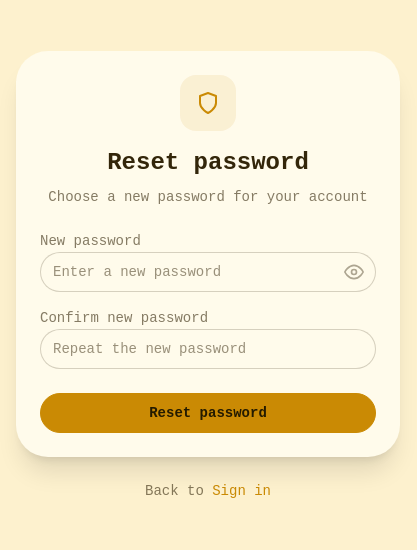
ResetPasswordPage › shows an error when fields are empty
The width and height of the screenshot is (417, 550).
What coordinates should you click on to do the following:
click the button "Reset password"
I would click on:
 (208, 413)
Its box is top-left (40, 393), bottom-right (376, 433).
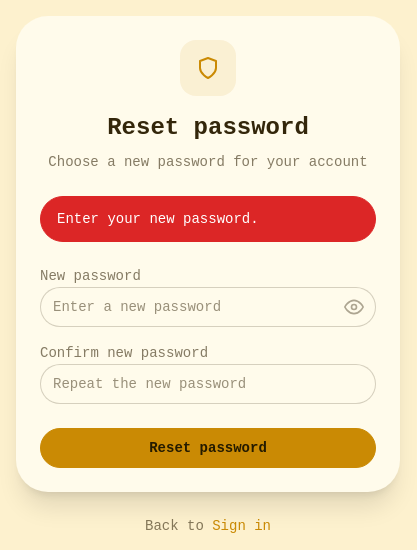
Check: the text "Enter your new password." is shown, box top-left (40, 196), bottom-right (376, 242)
